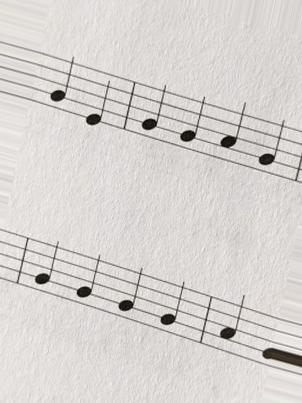note: (214, 97, 249, 170), (213, 290, 248, 361), (132, 80, 169, 147), (40, 52, 76, 118), (253, 115, 286, 183), (81, 66, 116, 130), (176, 91, 205, 159), (157, 278, 189, 338), (116, 265, 146, 328), (32, 238, 61, 299), (73, 253, 101, 312)
